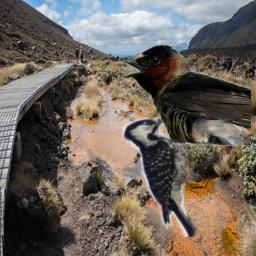Swallow: (121, 44, 251, 146)
Woodpecker: (121, 112, 223, 237)
